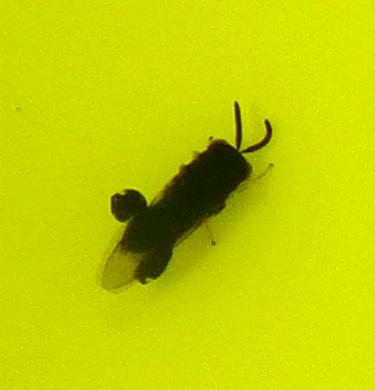Hymenoptera: (100, 100, 275, 290)
